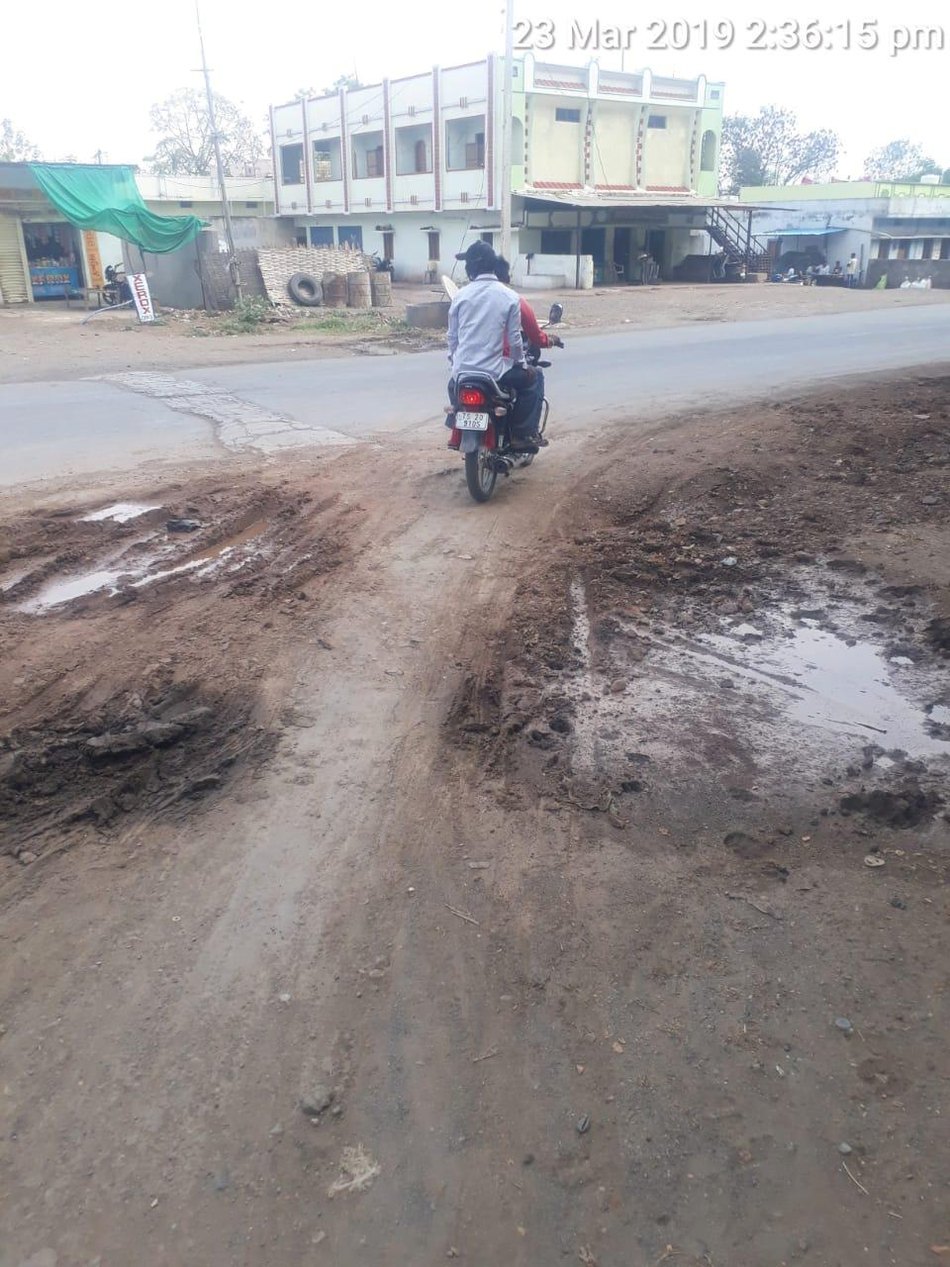plate: (448, 405, 496, 436)
